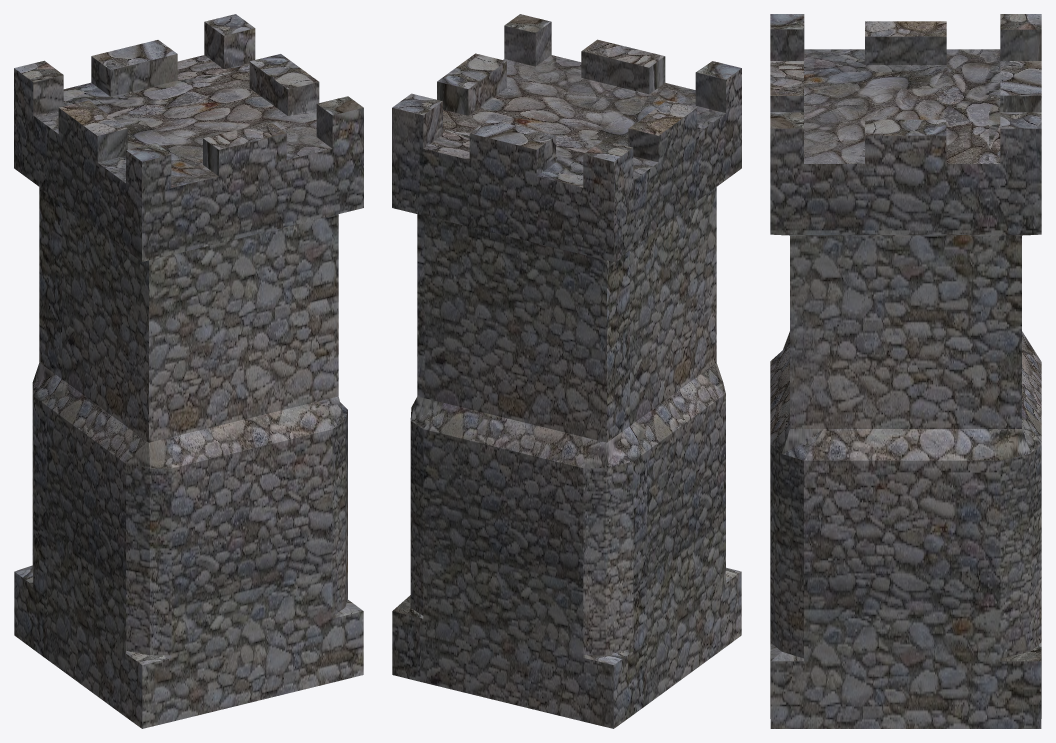
The model's file is tower.glb.
3 renders of one model, left to right at view 1: azimuth 30°, elevation 25°; view 2: azimuth 150°, elevation 25°; view 3: azimuth 270°, elevation 25°, orthographic. The views are drawn at different scales.
Visible parts, largest first — view 1: Cube; view 2: Cube; view 3: Cube.
Part boxes in pixels (x1,y1,x2,y2): Cube: (14,14,363,728); Cube: (392,14,741,728); Cube: (770,14,1041,728).
Bounding box in the file's own units: 2 × 4.89 × 2.
Materials: 1 (1 with a texture image).
